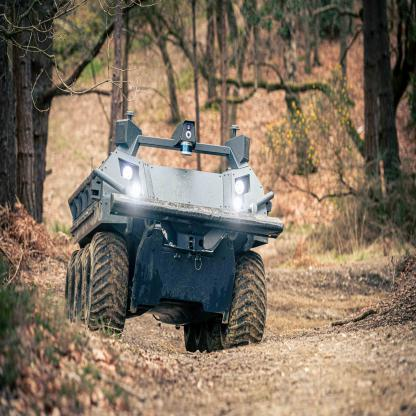UGV: (66, 112, 284, 346)
